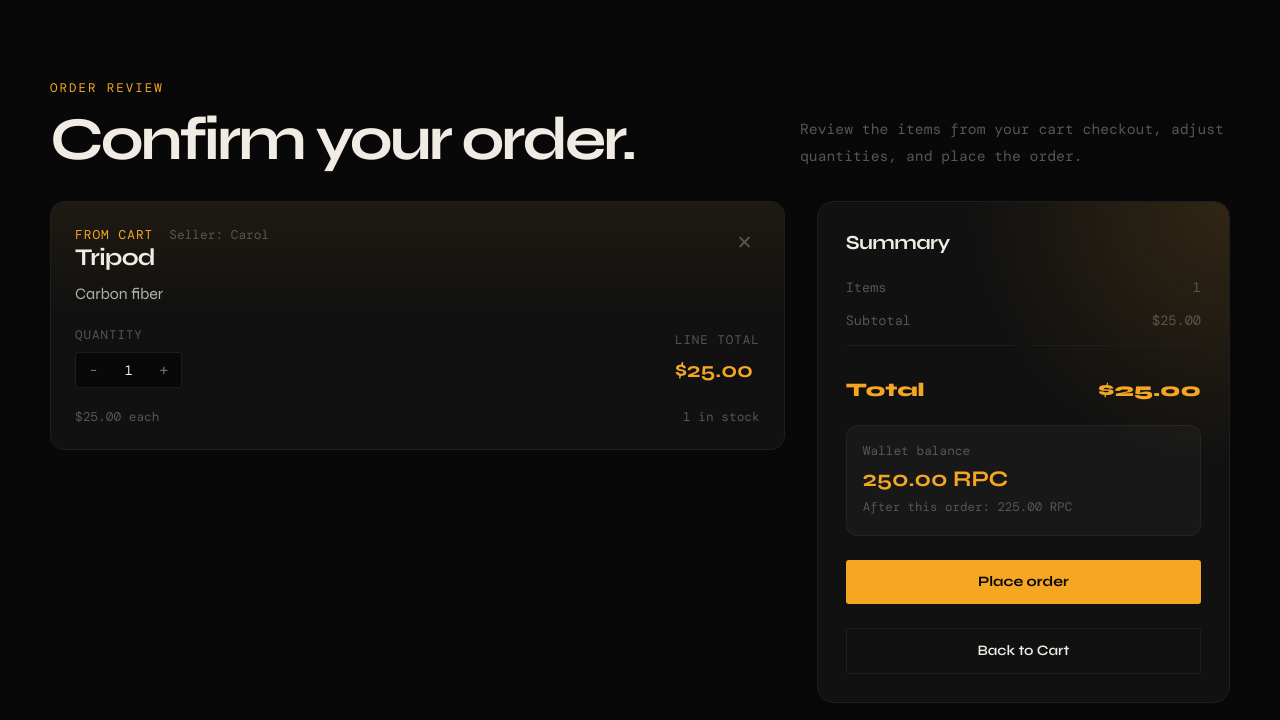
it: OrderPage › shows a removal error and keeps the item when cart deletion fails
Click the button named "Remove Tripod from order" at (745, 243), box x1=729 y1=226 x2=760 y2=260
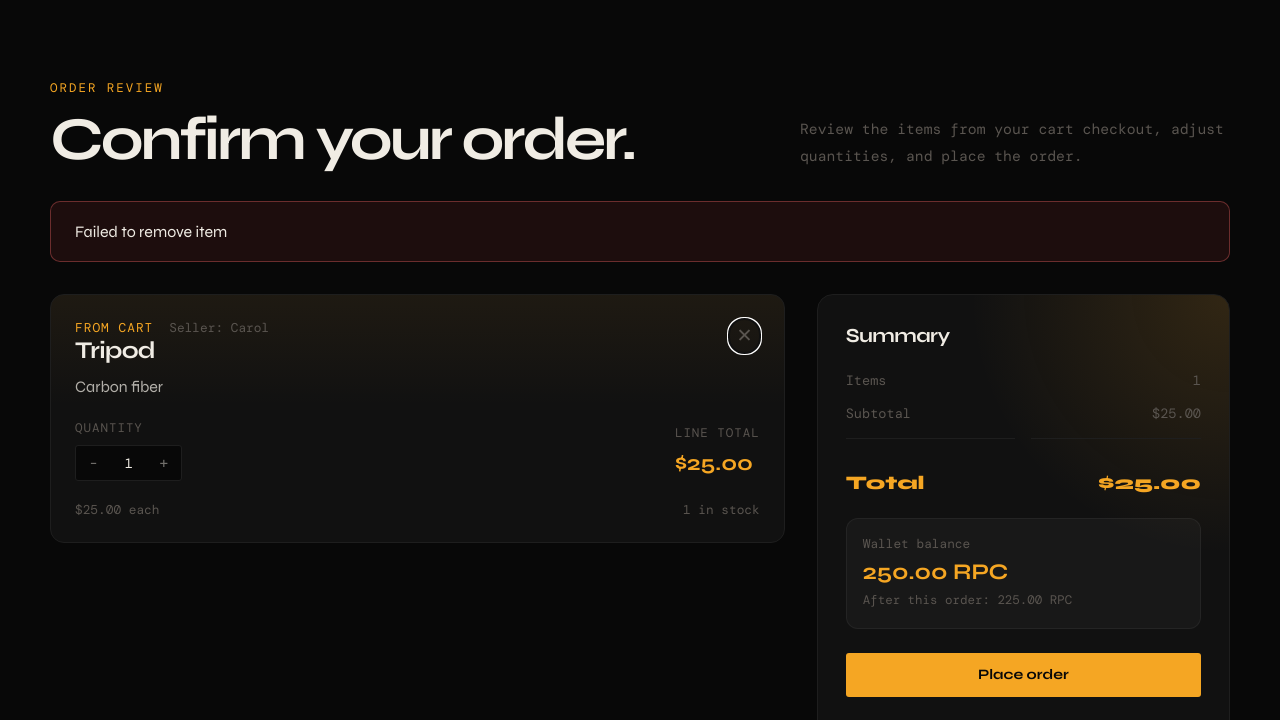
Expected: the heading "Tripod" is shown, x1=75 y1=336 x2=155 y2=365
Expected: the text "Failed to remove item" is shown, x1=50 y1=201 x2=1230 y2=262
